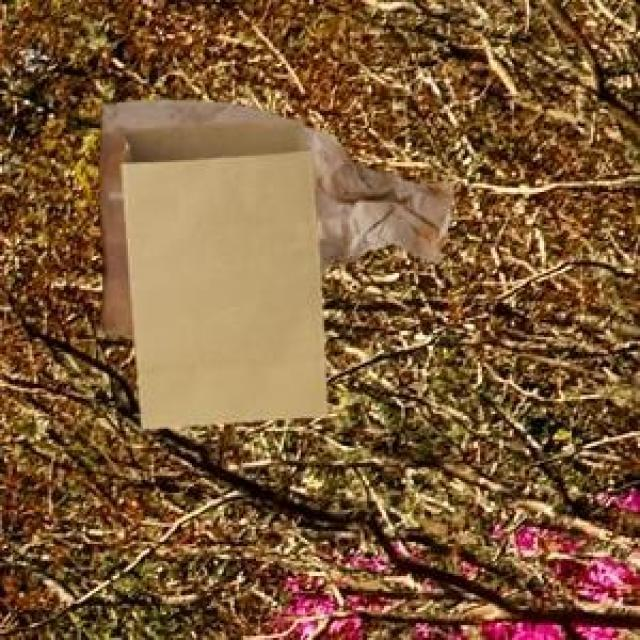paper: (94, 96, 450, 335), (117, 117, 322, 425)
